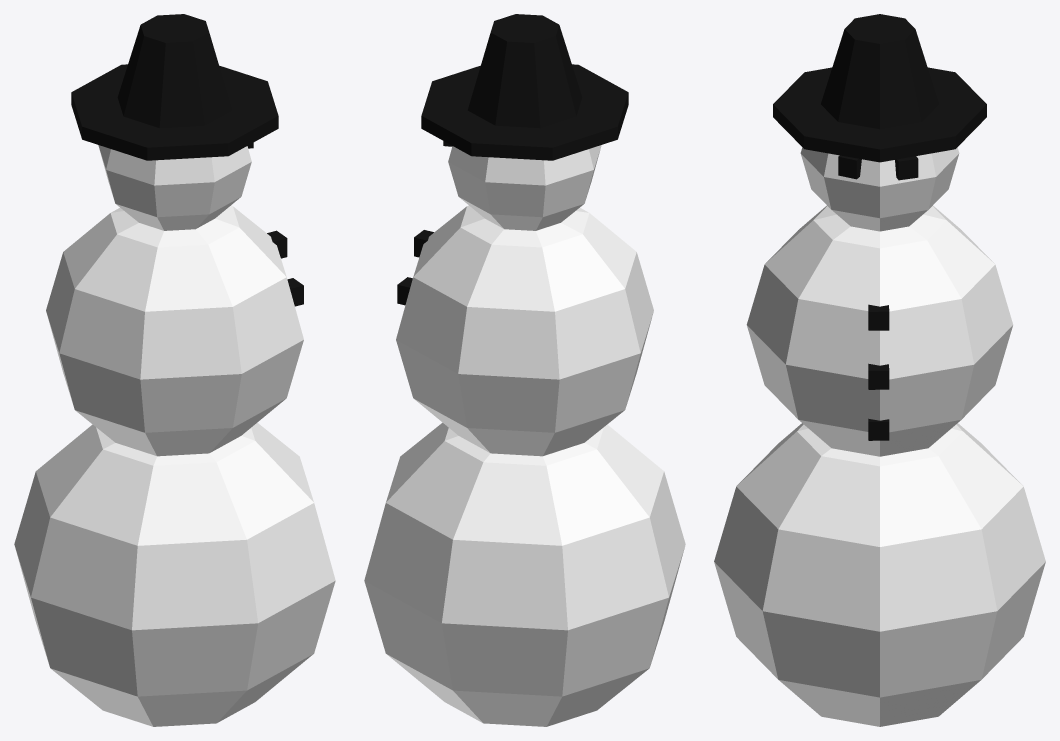
Rendered from Snowman.fbx.
The picture shows the model from 3 angles, left to right: view 1: azimuth 30°, elevation 25°; view 2: azimuth 150°, elevation 25°; view 3: azimuth 270°, elevation 25°; orthographic projection.
Visible parts, largest first — view 1: Sphere; view 2: Sphere; view 3: Sphere.
Boxes of the visible parts, bbox=[...] form: Sphere: bbox=[14, 14, 335, 726]; Sphere: bbox=[364, 14, 685, 726]; Sphere: bbox=[714, 14, 1045, 726].
Size of the model in its own units: 200 by 454 by 200.
